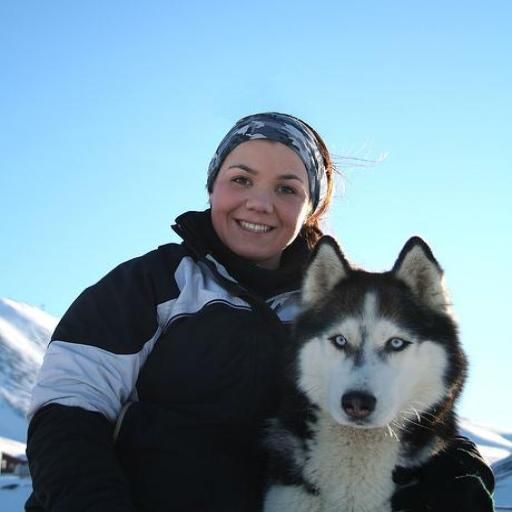dog_face: (299, 236, 462, 423)
